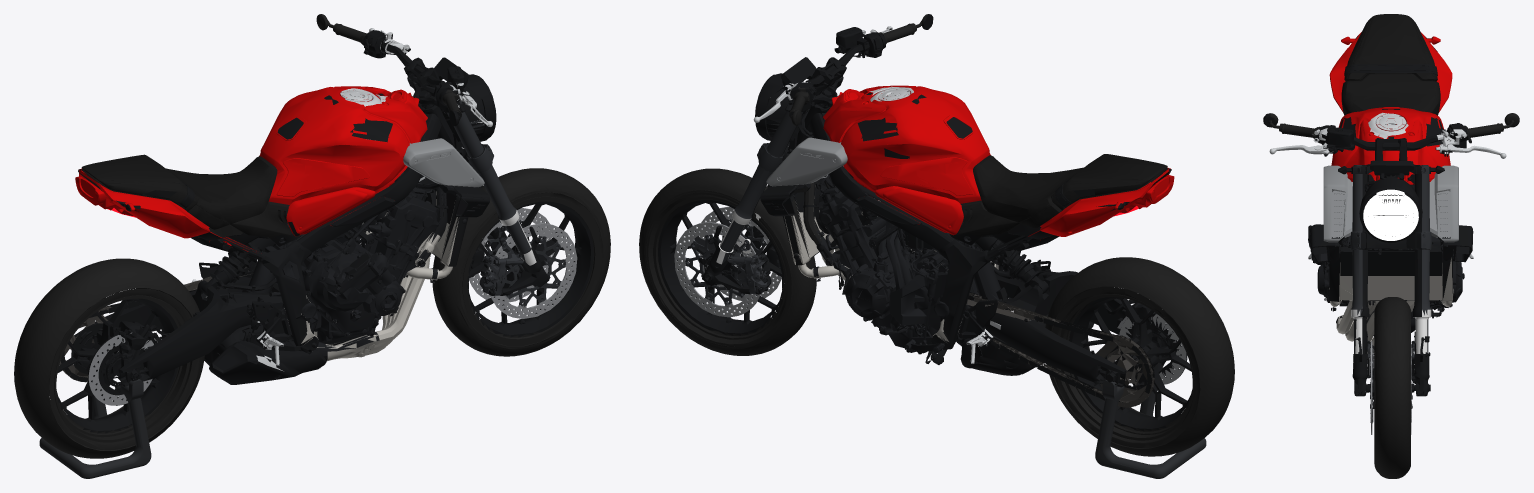
The picture shows the model from 3 angles, left to right: view 1: azimuth 30°, elevation 25°; view 2: azimuth 150°, elevation 25°; view 3: azimuth 270°, elevation 25°; orthographic projection. The views are drawn at different scales.
Visible parts, largest first — view 1: CB_Paint_SatinBlack, CB_Rubber, CB_Paint_HondaRed, CB_Engine_BlackCast, CB_Seat_Vinyl, CB_Anodised_Dark, CB_Steel_BrakeDisc, CB_Steel_BrushedExhaust, CB_Stand_Powder, CB_Paint_CryptonSilver, CB_Aluminium_Machined, CB_Chain_Steel; view 2: CB_Paint_SatinBlack, CB_Rubber, CB_Paint_HondaRed, CB_Engine_BlackCast, CB_Seat_Vinyl, CB_Anodised_Dark, CB_Steel_BrakeDisc, CB_Chain_Steel, CB_Stand_Powder, CB_Paint_CryptonSilver, CB_Steel_BrushedExhaust, CB_Aluminium_Machined; view 3: CB_Paint_SatinBlack, CB_Rubber, CB_Seat_Vinyl, CB_Paint_HondaRed, CB_Paint_CryptonSilver, CB_Anodised_Dark, CB_Steel_BrushedExhaust, CB_Lens_Clear, CB_Aluminium_Machined, CB_Engine_BlackCast, CB_Chrome, CB_Steel_BrakeDisc.
Part boxes in pixels (<box>): CB_Paint_SatinBlack: <box>56,25,593,433</box>; CB_Rubber: <box>14,14,610,458</box>; CB_Paint_HondaRed: <box>75,86,427,252</box>; CB_Engine_BlackCast: <box>234,170,486,365</box>; CB_Seat_Vinyl: <box>81,154,292,238</box>; CB_Anodised_Dark: <box>388,53,565,306</box>; CB_Steel_BrakeDisc: <box>88,208,577,405</box>; CB_Steel_BrushedExhaust: <box>284,191,458,361</box>; CB_Stand_Powder: <box>39,379,151,478</box>; CB_Paint_CryptonSilver: <box>403,138,484,187</box>; CB_Aluminium_Machined: <box>192,28,492,371</box>; CB_Chain_Steel: <box>59,267,250,381</box>; CB_Paint_SatinBlack: <box>658,14,1192,431</box>; CB_Rubber: <box>639,14,1234,456</box>; CB_Paint_HondaRed: <box>823,85,1174,240</box>; CB_Engine_BlackCast: <box>771,167,1018,367</box>; CB_Seat_Vinyl: <box>957,154,1168,237</box>; CB_Anodised_Dark: <box>685,51,842,304</box>; CB_Steel_BrakeDisc: <box>674,206,1186,384</box>; CB_Chain_Steel: <box>966,293,1154,407</box>; CB_Stand_Powder: <box>1095,362,1206,478</box>; CB_Paint_CryptonSilver: <box>766,137,847,186</box>; CB_Steel_BrushedExhaust: <box>784,185,998,349</box>; CB_Aluminium_Machined: <box>753,26,1030,363</box>; CB_Paint_SatinBlack: <box>1263,35,1473,408</box>; CB_Rubber: <box>1269,113,1519,478</box>; CB_Seat_Vinyl: <box>1341,14,1440,115</box>; CB_Paint_HondaRed: <box>1329,32,1452,184</box>; CB_Paint_CryptonSilver: <box>1323,165,1458,242</box>; CB_Anodised_Dark: <box>1323,143,1457,421</box>; CB_Steel_BrushedExhaust: <box>1329,257,1453,355</box>; CB_Lens_Clear: <box>1363,189,1418,240</box>; CB_Aluminium_Machined: <box>1269,112,1506,258</box>; CB_Engine_BlackCast: <box>1308,224,1472,339</box>; CB_Chrome: <box>1351,309,1431,368</box>; CB_Steel_BrakeDisc: <box>1369,341,1414,434</box>.
Size of the model in its own units: 2.13 by 1.12 by 0.8739.
